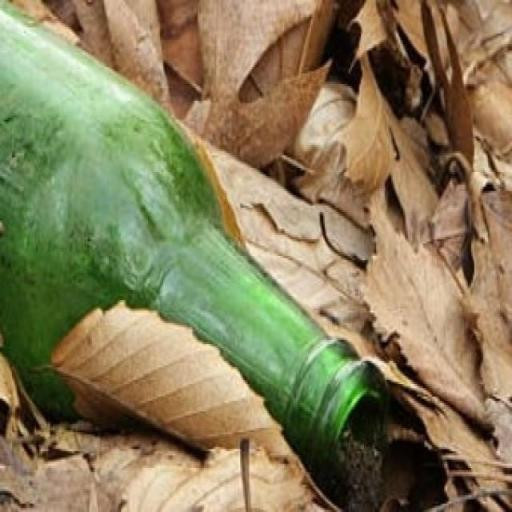glass: (0, 0, 390, 474)
